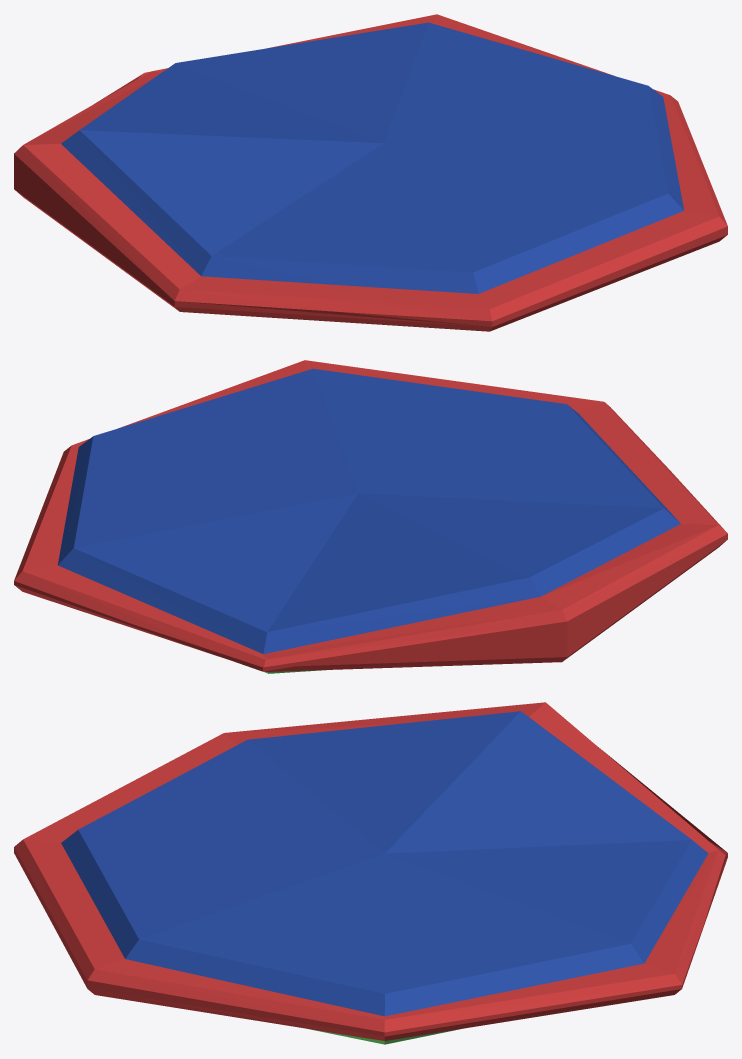
The model's file is stm_env_TreeFungus.fbx.
The picture shows the model from 3 angles, top to bottom: view 1: azimuth 30°, elevation 25°; view 2: azimuth 150°, elevation 25°; view 3: azimuth 270°, elevation 25°; orthographic projection. The views are drawn at different scales.
Parts seen in each view (by area): view 1: Fungus; view 2: Fungus; view 3: Fungus.
Part boxes in pixels (x1,y1,x2,y2): Fungus: (14,14,727,331); Fungus: (14,360,727,673); Fungus: (14,702,727,1044).
Bounding box in the file's own units: 89.61 × 11.66 × 92.39.
